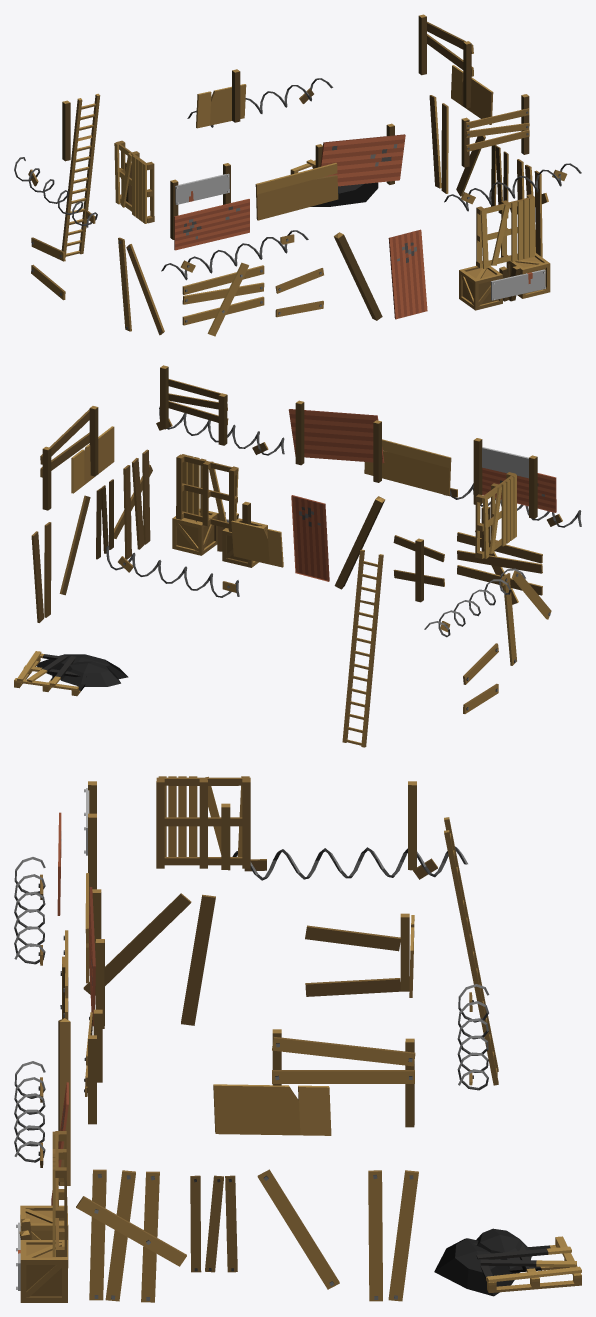
Rendered from SA_Bld_ShopOld_Extras_02.gltf.
3 views of the same model, one above another, from view 1: azimuth 30°, elevation 25°; view 2: azimuth 150°, elevation 25°; view 3: azimuth 270°, elevation 25° (orthographic). The views are drawn at different scales.
Parts seen in each view (by area): view 1: SA_Bld_ShopOld_Extras_02; view 2: SA_Bld_ShopOld_Extras_02; view 3: SA_Bld_ShopOld_Extras_02.
Boxes of the visible parts, x1,y1,x2,y2 form: SA_Bld_ShopOld_Extras_02: [14, 14, 581, 336]; SA_Bld_ShopOld_Extras_02: [14, 365, 581, 747]; SA_Bld_ShopOld_Extras_02: [14, 776, 581, 1302].
Size of the model in its own units: 23.74 by 10.11 by 18.64.
Materials: 1 (1 with a texture image).
